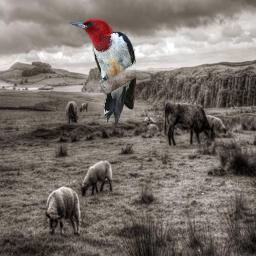Woodpecker: (69, 18, 136, 125)
